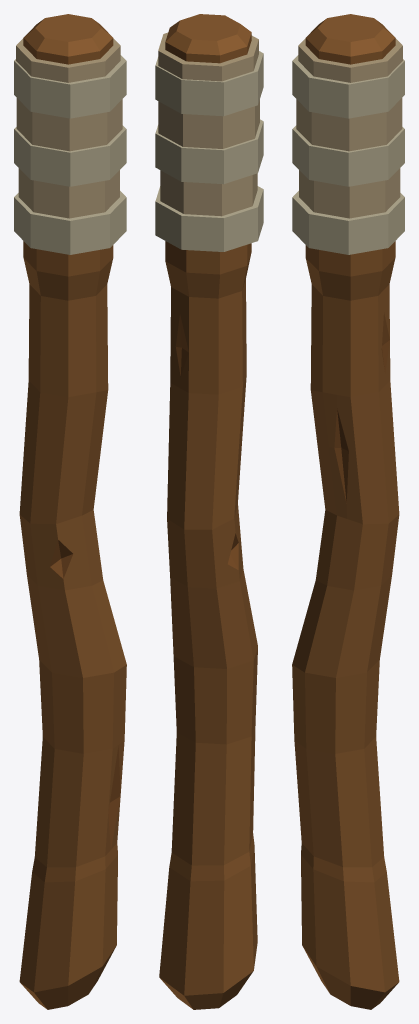
The model's file is Torch.fbx.
3 views of the same model, side by side, from view 1: azimuth 90°, elevation 25°; view 2: azimuth 150°, elevation 25°; view 3: azimuth 270°, elevation 25° (orthographic).
Visible parts, largest first — view 1: Torch; view 2: Torch; view 3: Torch.
Part boxes in pixels (x1,y1,x2,y2): Torch: [14, 14, 126, 1009]; Torch: [155, 14, 263, 1009]; Torch: [292, 14, 404, 1009].
Size of the model in its own units: 5.16 by 49.38 by 5.18.
